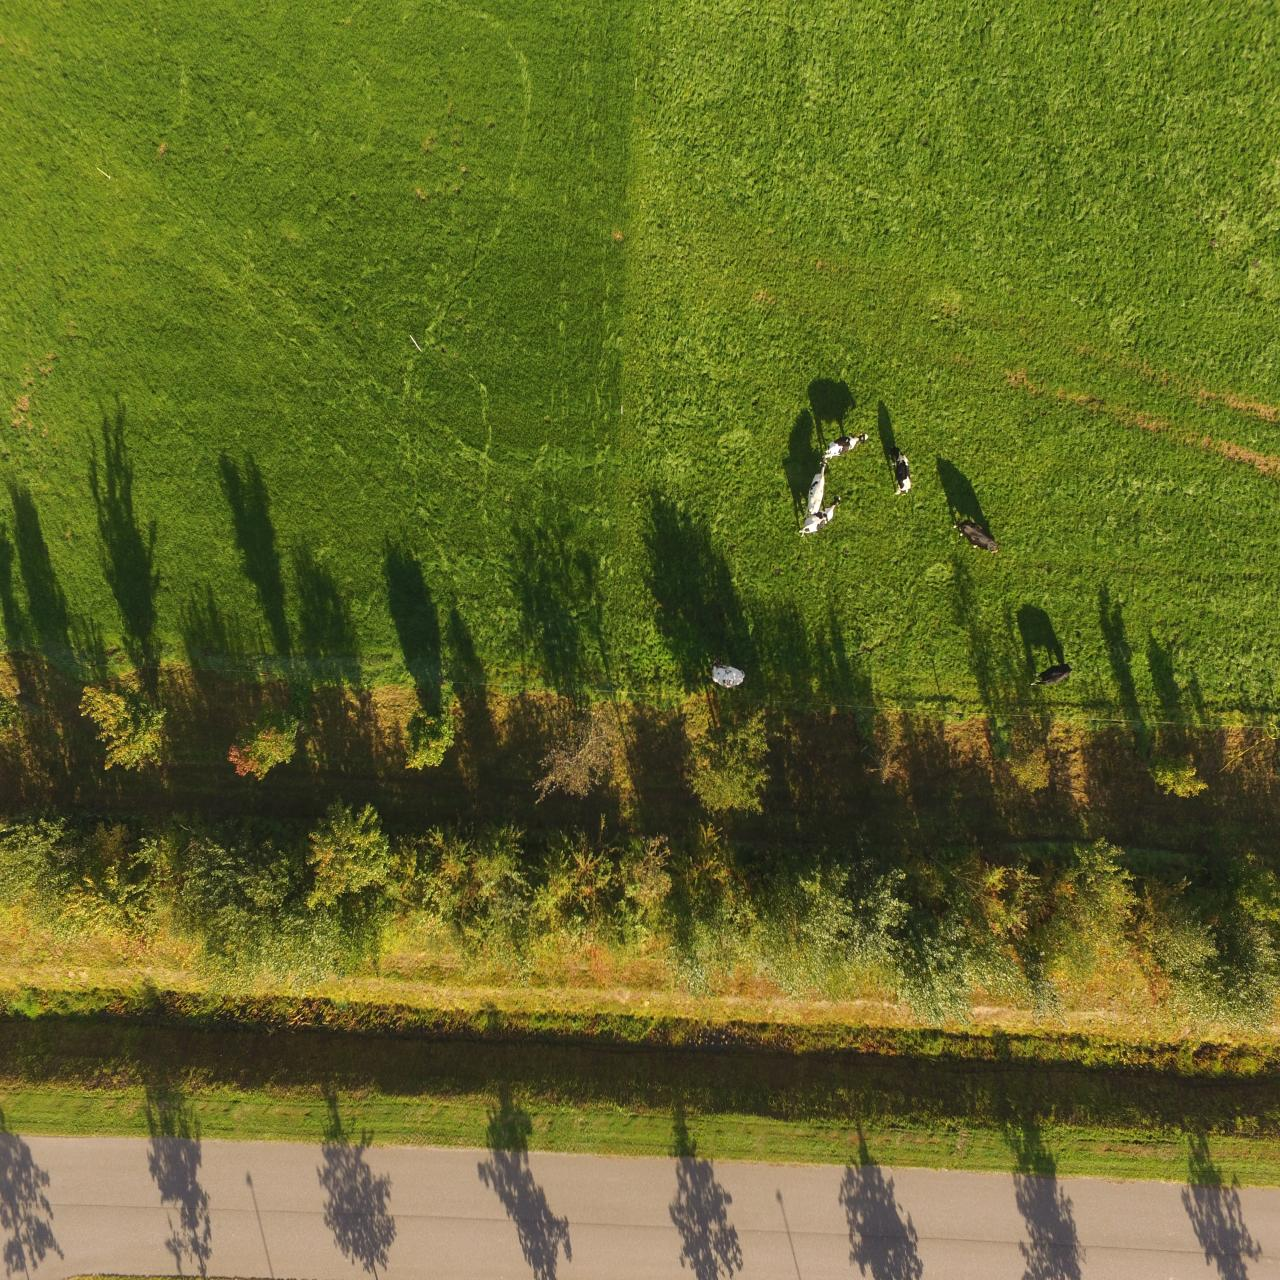cow: (953, 516, 1001, 557), (806, 447, 835, 515), (888, 447, 919, 502), (824, 427, 874, 455), (706, 662, 750, 688), (799, 502, 845, 526), (1035, 667, 1074, 688)
